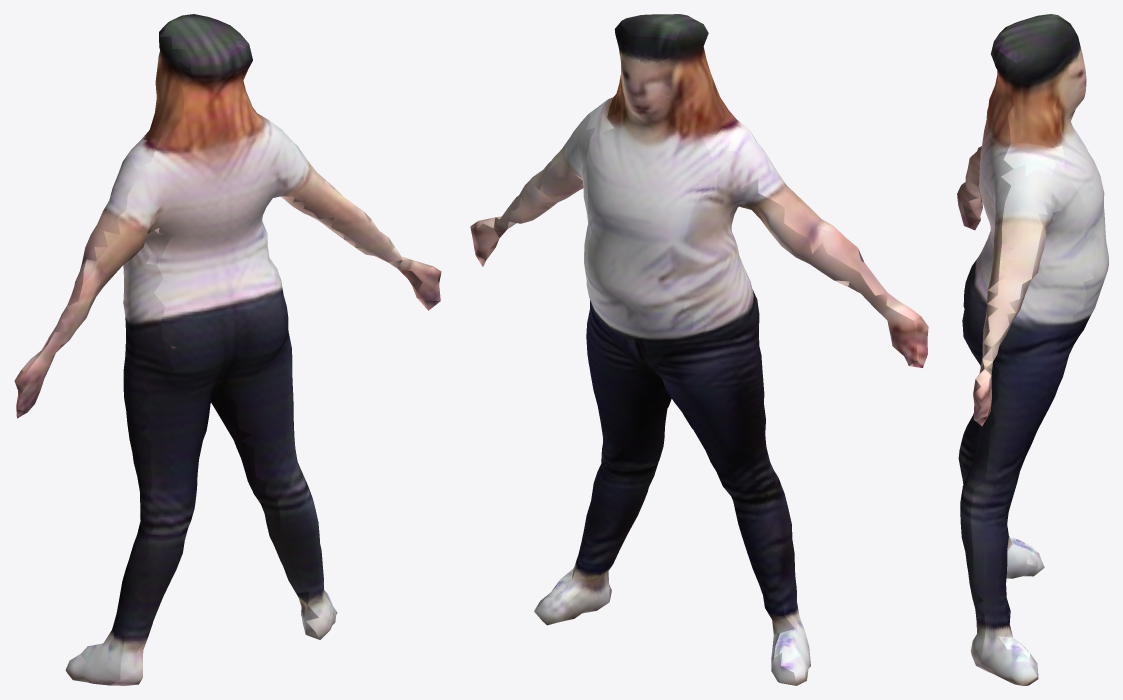
3 views of the same model, side by side, from view 1: azimuth 30°, elevation 25°; view 2: azimuth 150°, elevation 25°; view 3: azimuth 270°, elevation 25° (orthographic). The views are drawn at different scales.
Visible parts, largest first — view 1: world; view 2: world; view 3: world.
Boxes of the visible parts, box(x1,y1,x2,y2) form: world: box(14, 14, 441, 685); world: box(470, 14, 928, 685); world: box(957, 14, 1108, 685).
Size of the model in its own units: 0.7402 by 1.01 by 0.2292.
1 material, 1 textured.
